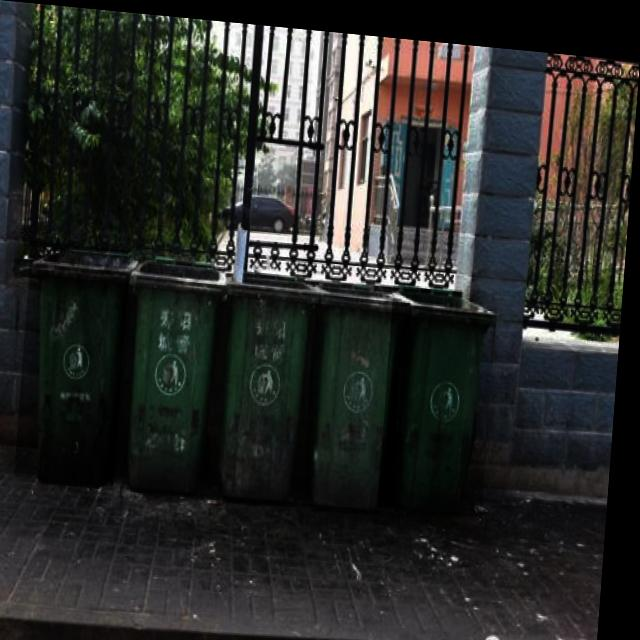garbage_bin: (21, 239, 141, 484), (385, 274, 502, 506), (121, 247, 232, 491), (217, 263, 325, 497), (307, 271, 415, 503)
